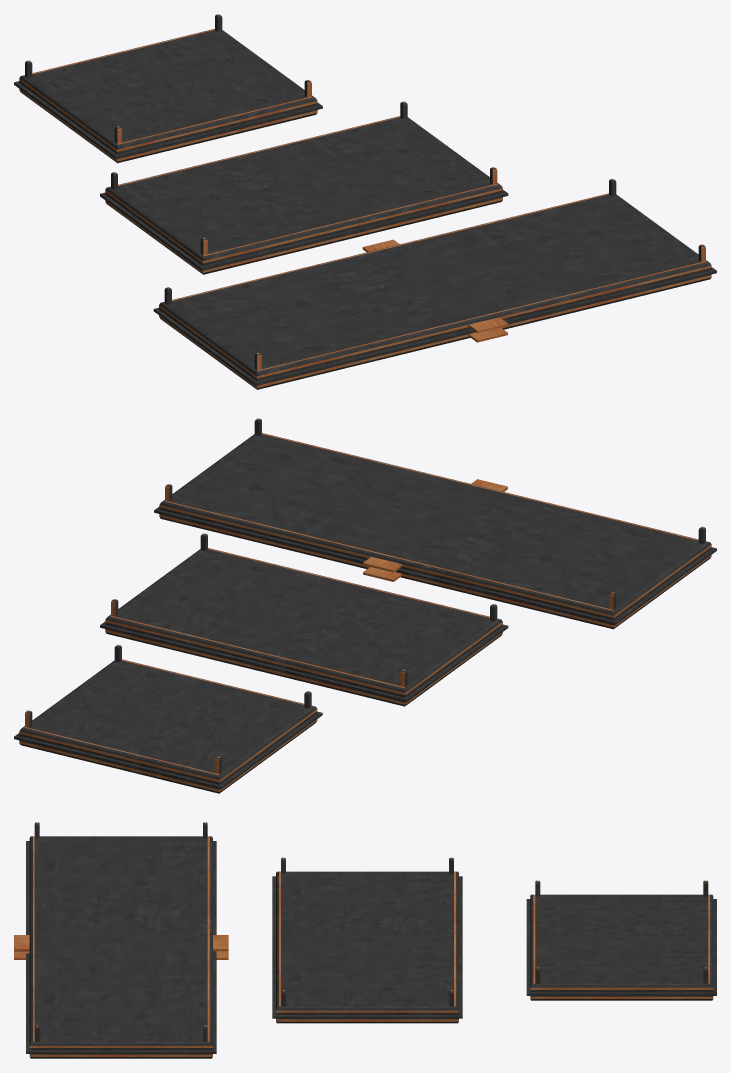
File: Platform_Surfaces.fbx
3 renders of one model, top to bottom at view 1: azimuth 30°, elevation 25°; view 2: azimuth 150°, elevation 25°; view 3: azimuth 270°, elevation 25°, orthographic. The views are drawn at different scales.
Parts seen in each view (by area): view 1: Platform_L, Platform_M, Platform_S; view 2: Platform_L, Platform_M, Platform_S; view 3: Platform_L, Platform_M, Platform_S.
Boxes of the visible parts, box(x1,y1,x2,y2) form: Platform_L: box(153, 178, 716, 389); Platform_M: box(100, 101, 508, 274); Platform_S: box(14, 14, 322, 163); Platform_L: box(154, 418, 716, 629); Platform_M: box(100, 533, 508, 706); Platform_S: box(14, 644, 322, 793); Platform_L: box(14, 822, 228, 1058); Platform_M: box(272, 857, 462, 1023); Platform_S: box(526, 880, 716, 1000).
Bounding box in the file's own units: 8.7 × 0.613 × 12.25.
Materials: 2 (2 with a texture image).
